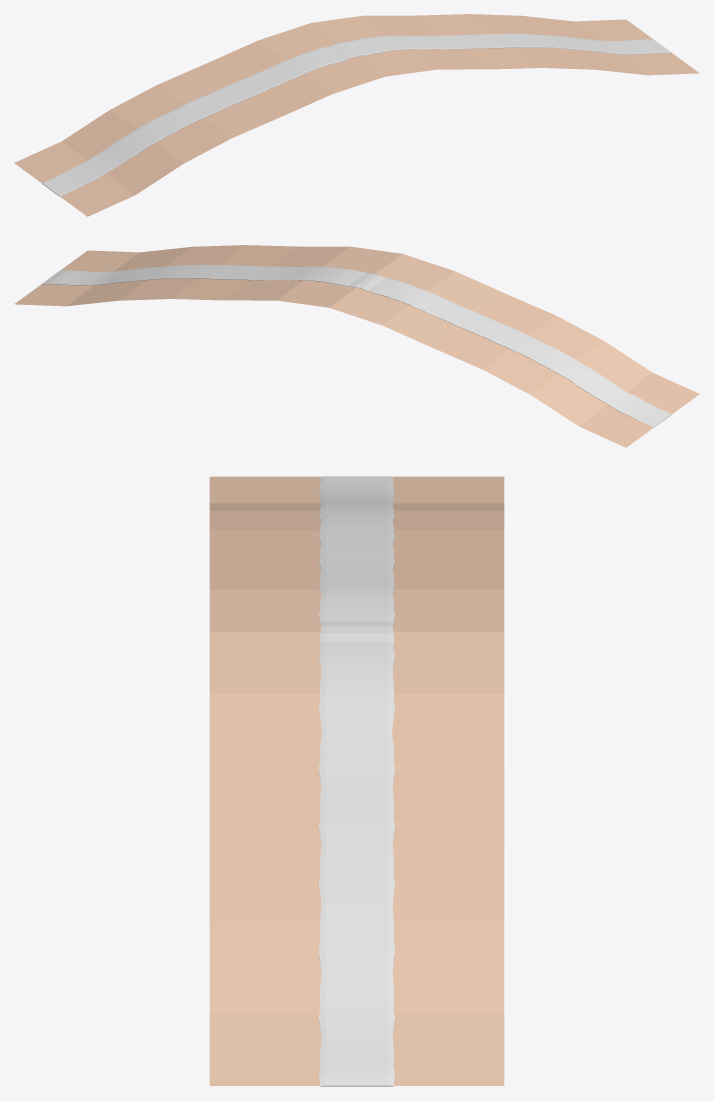
Rendered from Road3.fbx.
3 renders of one model, top to bottom at view 1: azimuth 30°, elevation 25°; view 2: azimuth 150°, elevation 25°; view 3: azimuth 270°, elevation 25°, orthographic. The views are drawn at different scales.
Parts seen in each view (by area): view 1: Sand, Road; view 2: Sand, Road; view 3: Sand, Road.
Part boxes in pixels (x1=…): Sand: x1=14, y1=14, x2=699, y2=216; Road: x1=41, y1=33, x2=671, y2=196; Sand: x1=14, y1=245, x2=699, y2=447; Road: x1=42, y1=264, x2=672, y2=427; Sand: x1=209, y1=476, x2=504, y2=1085; Road: x1=318, y1=476, x2=395, y2=1086.
Size of the model in its own units: 22255 by 2573 by 4639.
